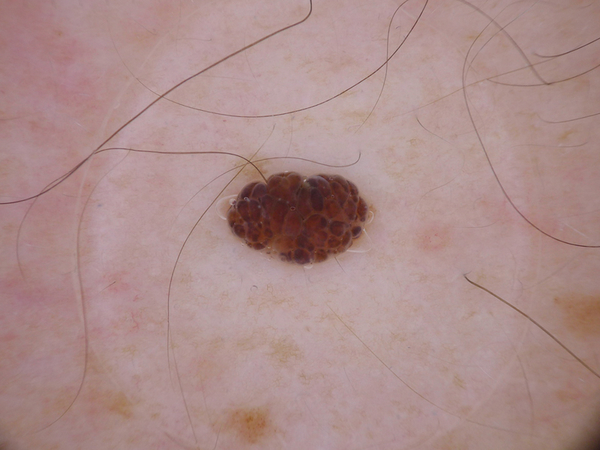Detected Lesion: (221, 165, 375, 271)
